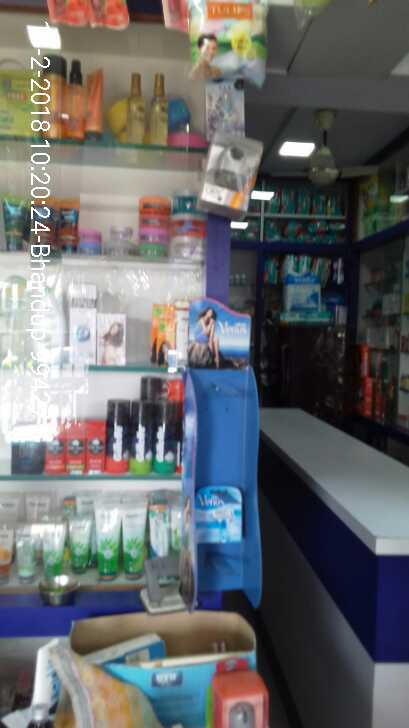beauty: (193, 487, 243, 537), (156, 402, 183, 476), (131, 402, 155, 476), (108, 402, 125, 473)
